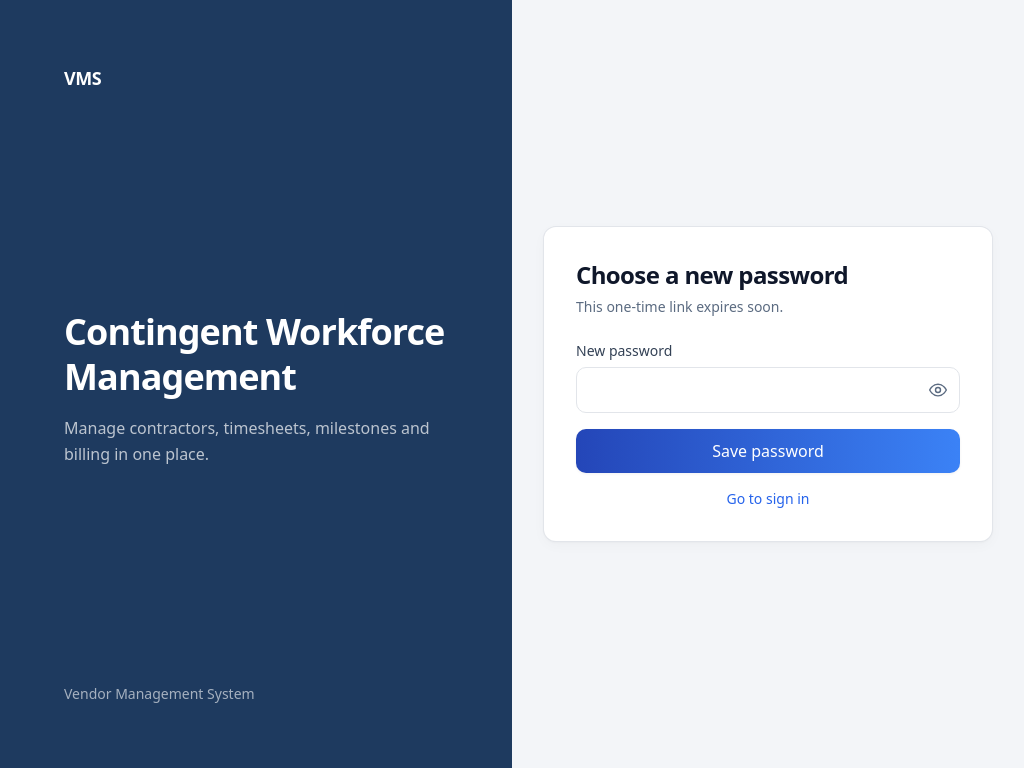
it: uses the one-time reset token from the URL and never renders it
Type "Password123!" into the password field labelled "New password". click: (768, 390)
box: [576,367,960,413]
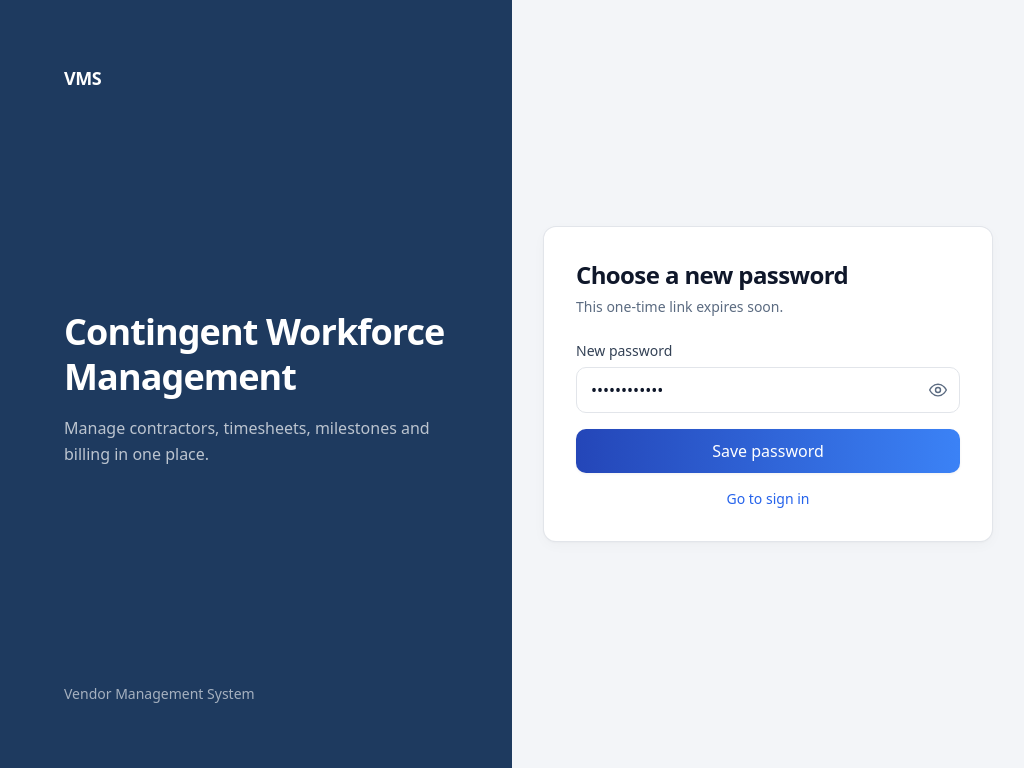
Click the button "Save password". click: (768, 451)
box: [576,429,960,473]
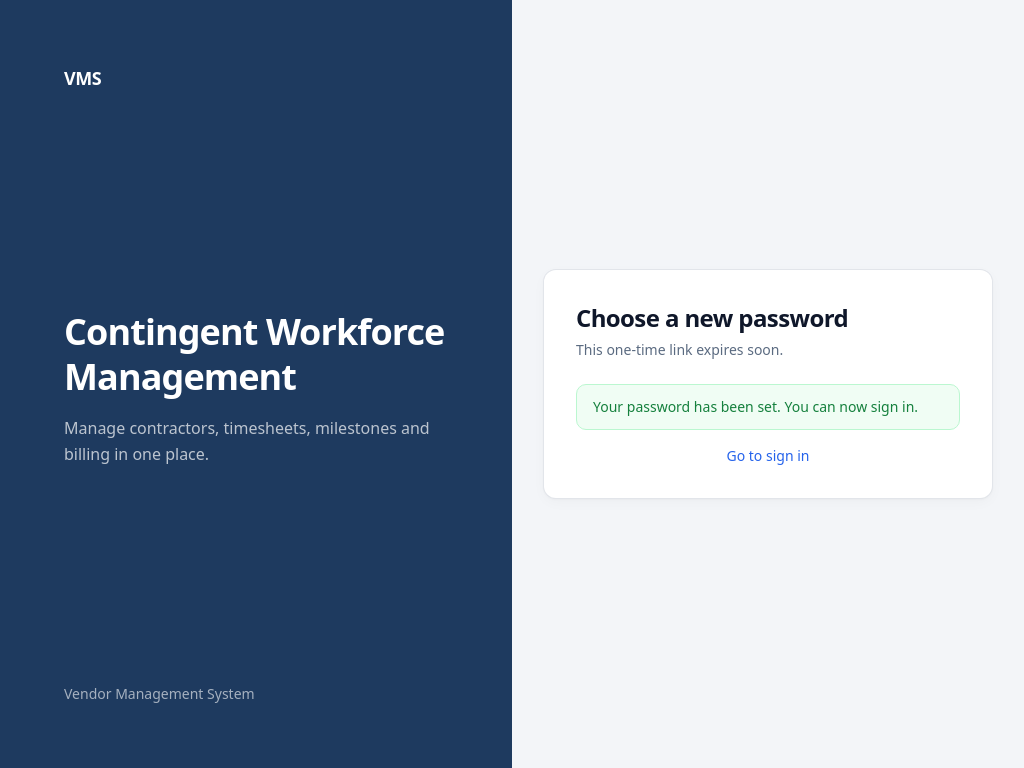
Check: the text "Your password has been set. You can now sign in." is shown, box [576,384,960,430]
